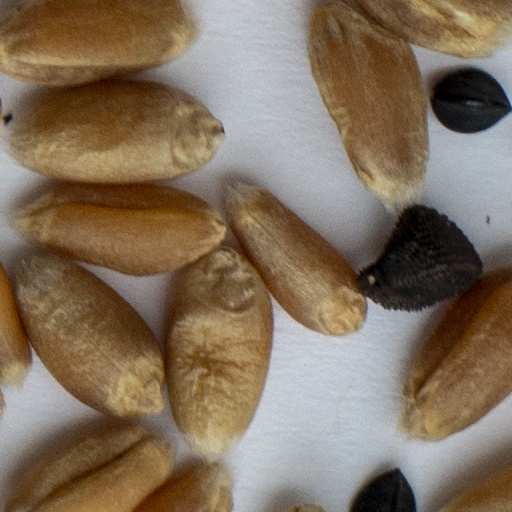Fallopia-Convolvulus-poly: (429, 63, 511, 137), (349, 464, 418, 511)
